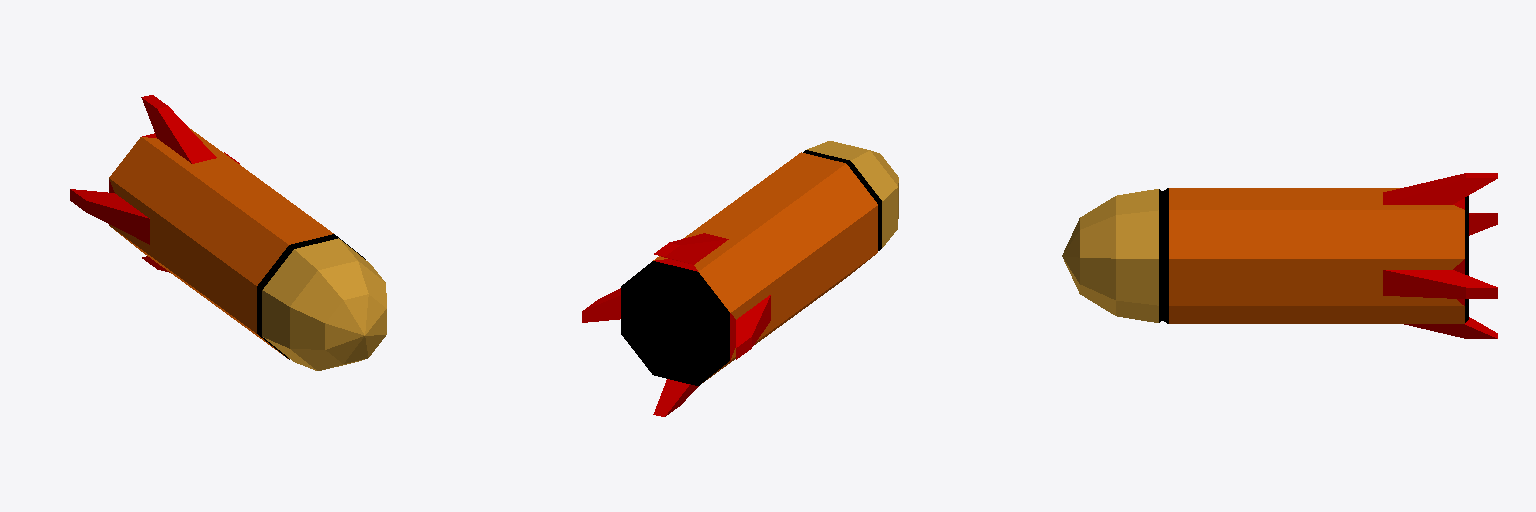
The model's file is Projectile.obj.
The picture shows the model from 3 angles: view 1: azimuth 30°, elevation 25°; view 2: azimuth 150°, elevation 25°; view 3: azimuth 270°, elevation 25°; orthographic projection.
Parts seen in each view (by area): view 1: Cylinder; view 2: Cylinder; view 3: Cylinder.
Part boxes in pixels (left/top/right/bottom): Cylinder: left=70, top=95, right=386, bottom=370; Cylinder: left=582, top=141, right=898, bottom=416; Cylinder: left=1062, top=173, right=1497, bottom=338.
Bounding box in the file's own units: 0.4526 × 0.4526 × 1.11.